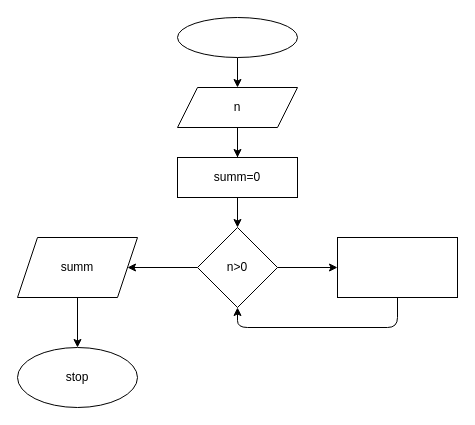
Some shapes in this 475 by 425 pixel diagram are drawn without their labels. Each missing label, with the box of its shape:
start: (176, 16, 298, 58)
summ=summ+n%10 n = n / 10: (336, 236, 458, 298)
